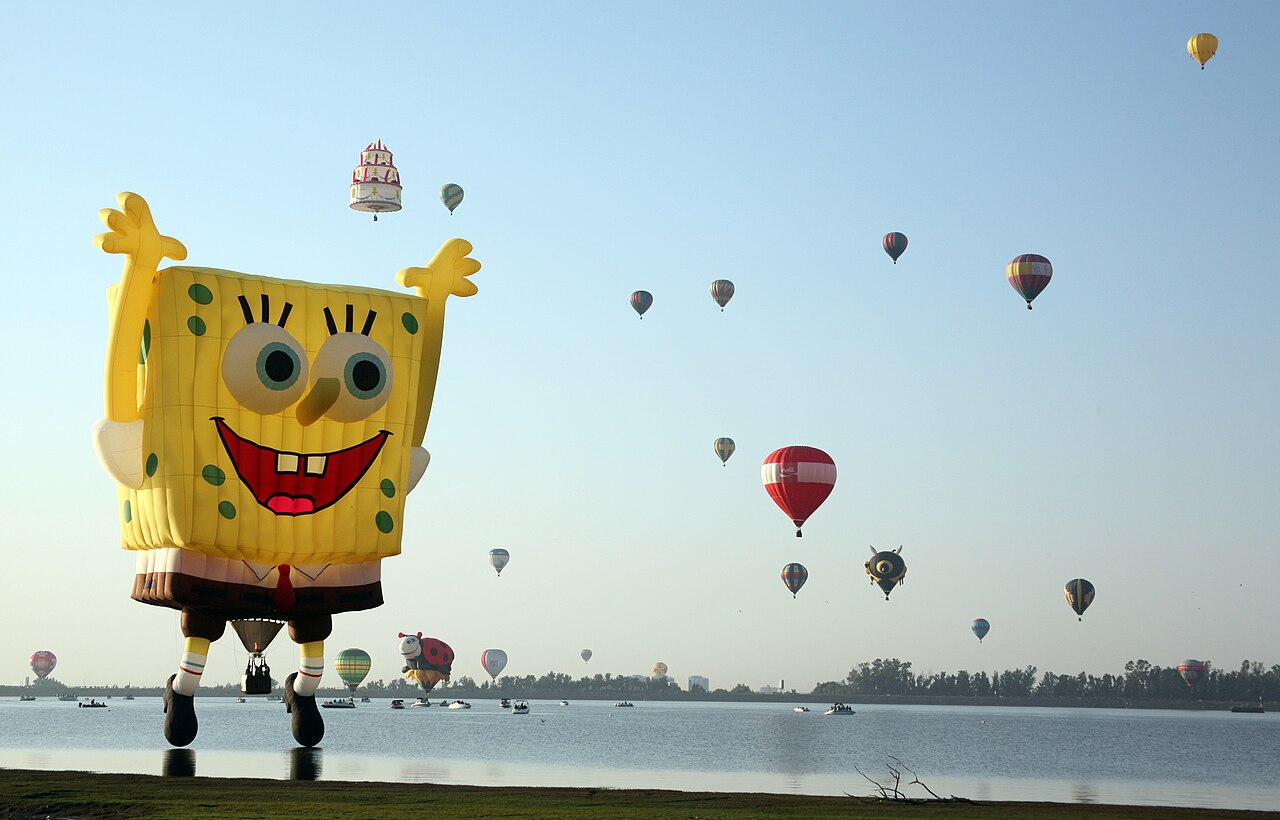balloon: (87, 175, 471, 754), (759, 444, 836, 538), (348, 136, 403, 230), (398, 638, 456, 704), (228, 621, 292, 668), (1005, 253, 1053, 313), (863, 543, 908, 603), (333, 650, 372, 699), (1185, 33, 1220, 86), (1062, 576, 1096, 623), (879, 230, 909, 275), (778, 556, 809, 598), (27, 650, 59, 688), (1175, 652, 1207, 690), (480, 649, 509, 688), (439, 179, 466, 219), (708, 278, 735, 310), (712, 435, 736, 471), (488, 540, 512, 572), (628, 291, 654, 320), (969, 613, 992, 645), (652, 660, 669, 682), (579, 648, 593, 666)
